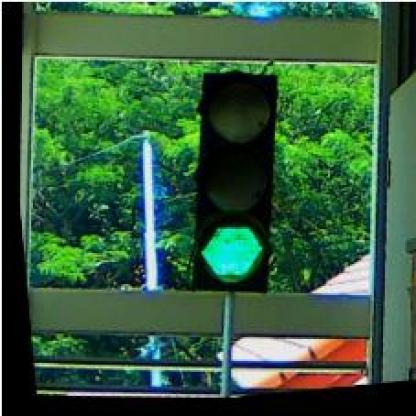green: (171, 70, 292, 304)
